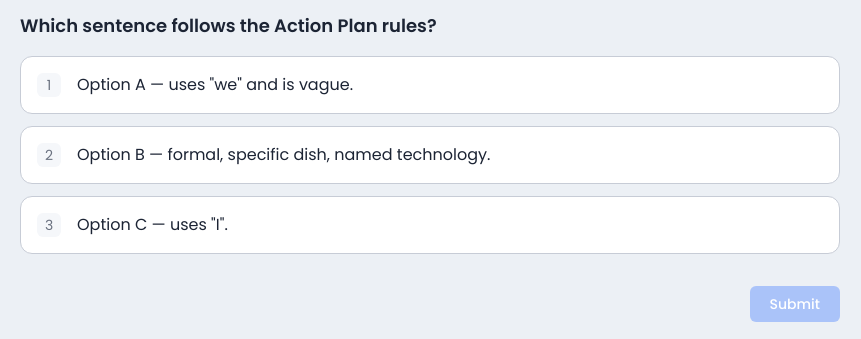
Test case: SlideMcq — Submit button › Submit is enabled after clicking an option
The width and height of the screenshot is (861, 339).
Step 1. Click the button with aria-label "Option 1: Option A" → (215, 84), box [20,56,840,114]
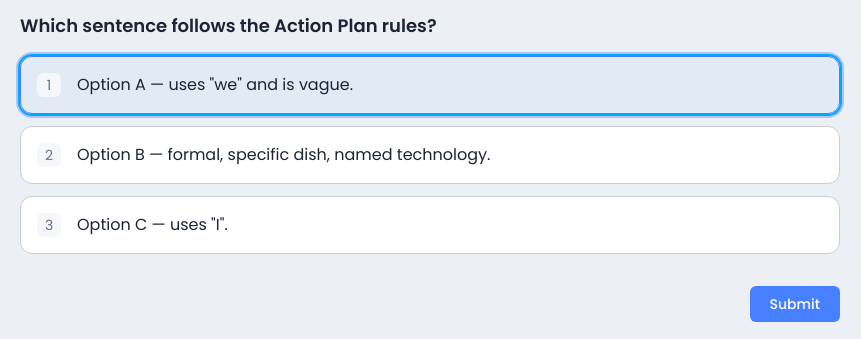
Expected: the button with aria-label "Submit answer" is enabled, [750,286,840,322]
